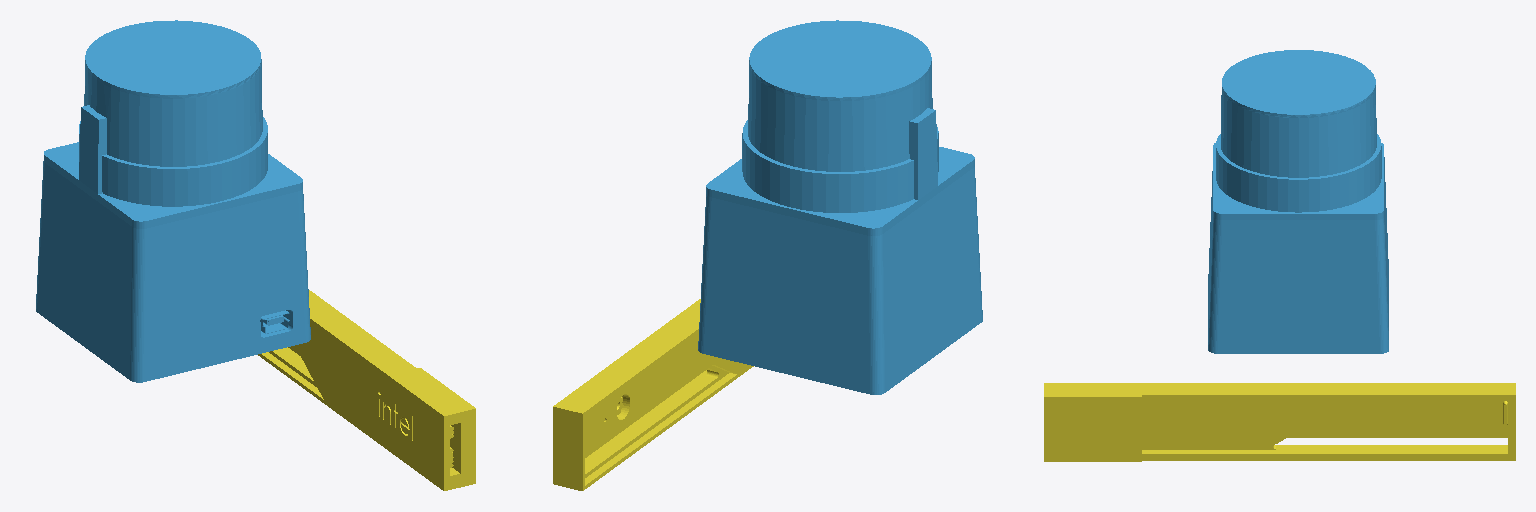
The robot description file, URDF, robot "intelaero":
<?xml version="1.0"?>
<robot name="intelaero">

  <link name="intel_drone">
    <visual>
      <origin rpy="0.0 0 1.5707" xyz="-0.1 0 0.03"/>
      <geometry>
        <mesh filename="package://bintel_ros/meshes/inteldrone_frame.stl" scale="0.001 0.001 0.001"/>
      </geometry>
    </visual>
  </link>
  
  
  <link name="laser">
	<visual>
      <origin rpy="1.5707  0 1.5707" xyz="0 -0.025 -0.04"/>
      <geometry>
        <mesh filename="package://bintel_ros/meshes/hokuyo_urg04lx.STL" scale="0.001 0.001 0.001"/>
      </geometry>     
    </visual>
  </link>
  
  <joint name="laser_to_intel_drone" type="fixed">
    <parent link="intel_drone"/>
    <child link="laser"/>
    <origin rpy="0 0 0" xyz="0.05 0.0 0.05"/>
  </joint>
  
  
 <link name="base_link">
  </link>
  <joint name="intel_drone_to_base_link" type="fixed">
    <parent link="intel_drone"/>
    <child link="base_link"/>
    <origin rpy="0 0 0" xyz="0 0 0"/>
  </joint>
  
    <link name="camera_link">
	<visual>
      <origin rpy="1.5707 0 1.5707" xyz="0.0 -0.07 0.000"/>
      <geometry>
        <mesh filename="package://bintel_ros/meshes/r200.STL" scale="0.001 0.001 0.001"/>
      </geometry>
    </visual>
  </link>
  
  <link name="camera_rgb_optical_frame">
    </link>
  
    <joint name="camera_link_regis" type="fixed">
    <parent link="camera_link"/>
    <child link="camera_rgb_optical_frame"/>
    <origin rpy="0 0 0" xyz="0.0 0.0 0.0"/>
  </joint>
  
    <link name="camera_depth_optical_frame">
    </link>

    <joint name="camera_depth" type="fixed">
    <parent link="camera_link"/>
    <child link="camera_depth_optical_frame"/>
    <origin rpy="0 0 0" xyz="0.0 0.0 0.0"/>
  </joint>

  <joint name="lidar_intel_drone" type="fixed">
    <parent link="intel_drone"/>
    <child link="camera_link"/>
    <origin rpy="0 0 0" xyz="0.11 0.0 -0.014"/>
  </joint>
  
  
  
  <link name="engineUR">
  </link>
  <joint name="intel_drone_t0_engineUR" type="fixed">
    <parent link="intel_drone"/>
    <child link="engineUR"/>
    <origin rpy="0 0 3.1415" xyz="-0.128 0.128 0.02"/>
  </joint>
  
  <link name="engineUL">
  </link>
  <joint name="intel_drone_t0_engineUL" type="fixed">
    <parent link="intel_drone"/>
    <child link="engineUL"/>
    <origin rpy="0 0 3.1415" xyz="-0.128 -0.128 0.02"/>
  </joint>


 <link name="engineLR">
  </link>
  <joint name="intel_drone_t0_engineLR" type="fixed">
    <parent link="intel_drone"/>
    <child link="engineLR"/>
    <origin rpy="0 0 3.1415" xyz="0.128 0.128 0.02"/>
  </joint>
  
  <link name="engineLL">
  </link>
  <joint name="intel_drone_t0_engineLL" type="fixed">
    <parent link="intel_drone"/>
    <child link="engineLL"/>
    <origin rpy="0 0 3.1415" xyz="0.128 -0.128 0.02"/>
  </joint>

</robot>

--- Facts derived from the render (not from the file) ---
The picture shows the robot from 3 angles, left to right: view 1: azimuth 30°, elevation 25°; view 2: azimuth 150°, elevation 25°; view 3: azimuth 270°, elevation 25°; orthographic projection.
Robot: intelaero — 10 links, 9 joints (9 fixed); root link intel_drone; default pose: every joint at zero.
Links seen in each view (by area): view 1: laser, camera_link; view 2: laser, camera_link; view 3: laser, camera_link.
Link boxes in pixels (x1,y1,x2,y2): laser: (36, 20, 310, 382); camera_link: (258, 290, 475, 490); laser: (698, 20, 982, 394); camera_link: (553, 299, 753, 490); laser: (1208, 50, 1388, 353); camera_link: (1044, 383, 1515, 461).
Bounding box of the posed robot: 0.0689 × 0.13 × 0.0952 m (x, y, z).
Meshes: 3 distinct files referenced, 2 mesh visuals loaded (2 binary STL); not drawn: 1 (reference not matched to a file when rendering).